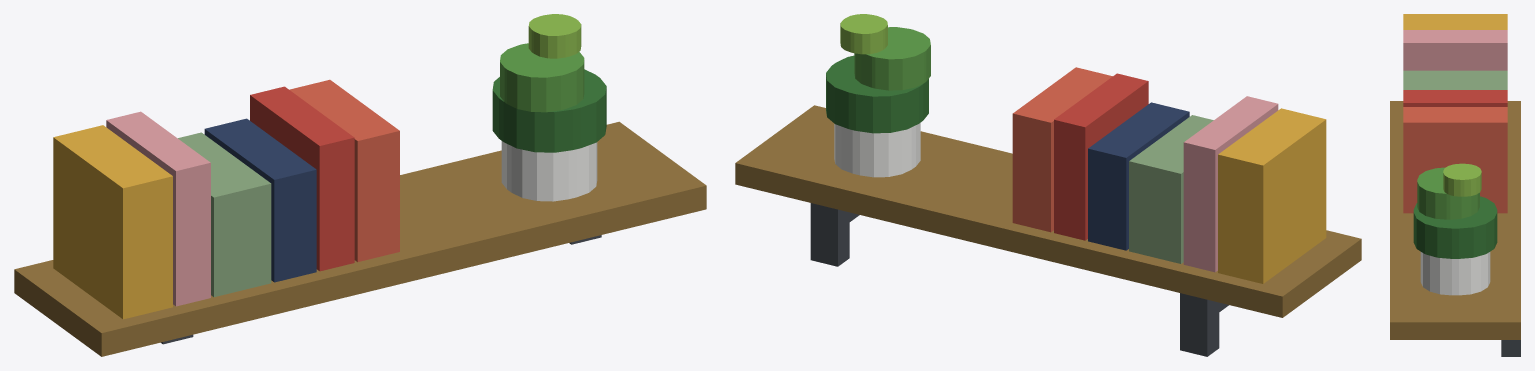
Rendered from wall_shelf.glb.
3 views of the same model, side by side, from view 1: azimuth 30°, elevation 25°; view 2: azimuth 150°, elevation 25°; view 3: azimuth 270°, elevation 25° (orthographic). The views are drawn at different scales.
Visible parts, largest first — view 1: wall_shelf_Body; view 2: wall_shelf_Body; view 3: wall_shelf_Body.
Part boxes in pixels (left/top/right/bottom): wall_shelf_Body: left=14, top=14, right=706, bottom=356; wall_shelf_Body: left=735, top=14, right=1361, bottom=356; wall_shelf_Body: left=1390, top=14, right=1520, bottom=356.
Bounding box in the file's own units: 0.8 × 0.3 × 0.2.
